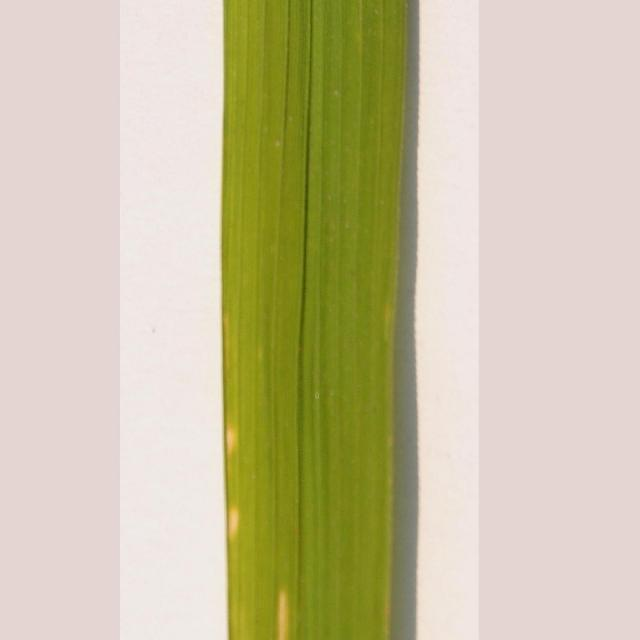leaf blight: (223, 422, 252, 558), (263, 584, 303, 640)
